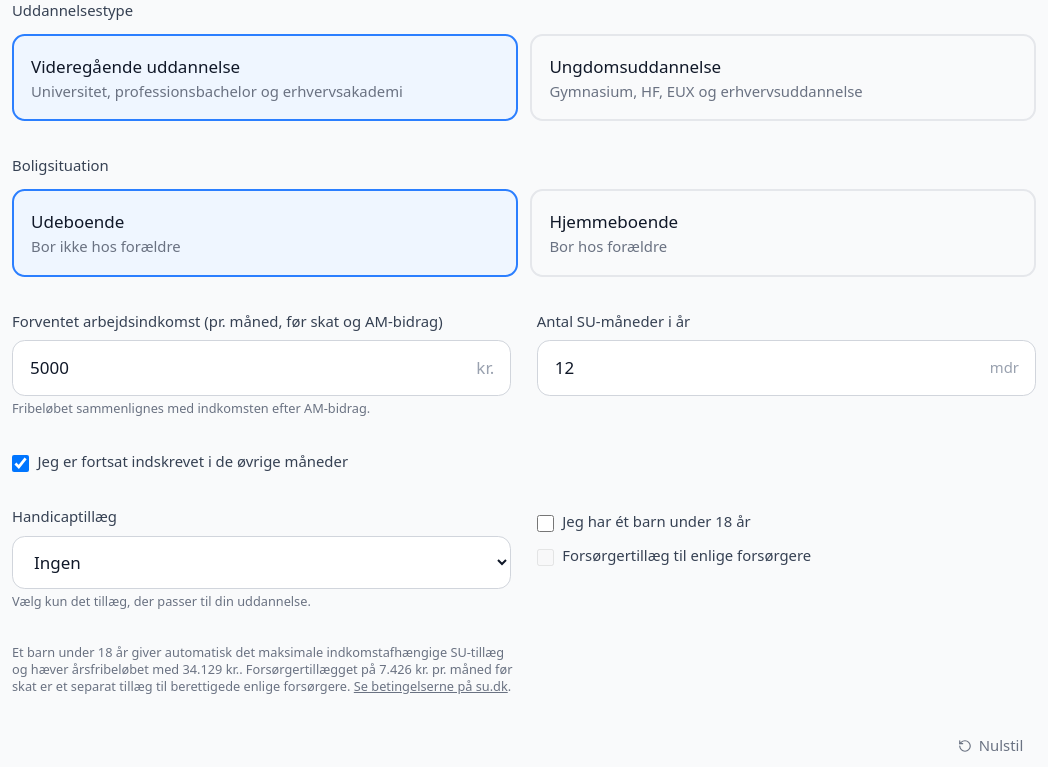
Scenario: SUBeregner › viser ingen SU eller SU-lån ved nul SU-måneder
Replace the text in the number field labelled "Antal SU-måneder i år" with "0" at (786, 368), box [537,340,1036,396]
(page scrolled)
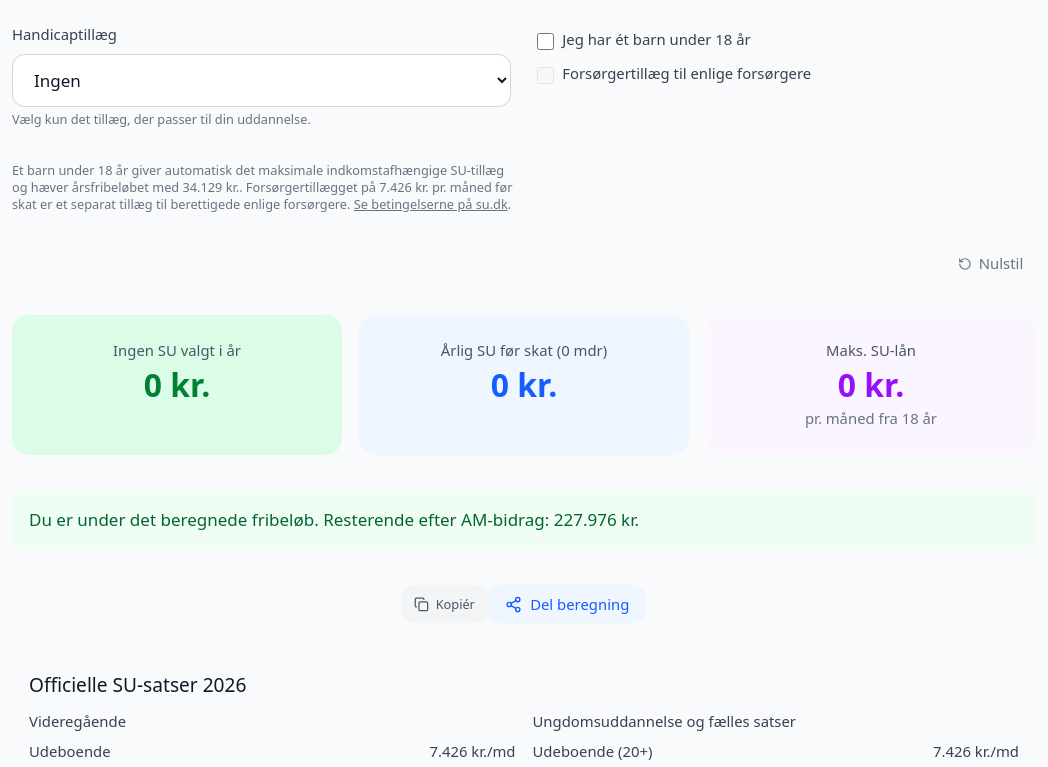
expect the text "Ingen SU valgt i år" is shown: met, box [113,340,241,360]
